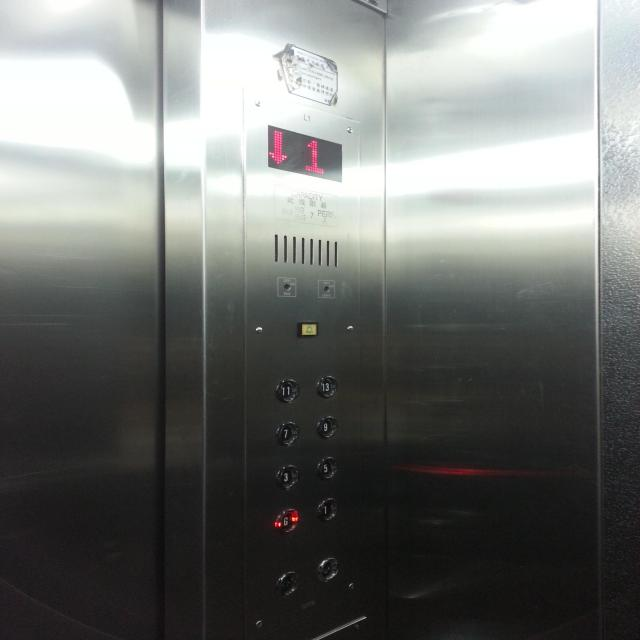1: (317, 498, 338, 521)
11: (276, 378, 300, 402)
13: (316, 374, 338, 399)
3: (275, 464, 298, 490)
5: (317, 456, 338, 479)
7: (275, 421, 299, 445)
9: (316, 415, 338, 438)
G: (274, 508, 300, 532)
alarm: (297, 320, 319, 338)
close: (315, 557, 339, 582)
led: (265, 121, 345, 187)
open: (274, 570, 300, 596)
unknown: (276, 277, 297, 298), (317, 279, 336, 299)
